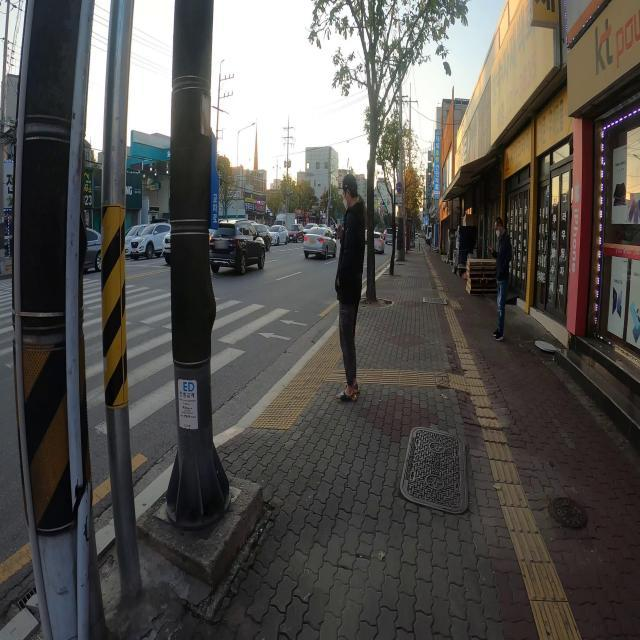crosswalk: (0, 261, 319, 462)
